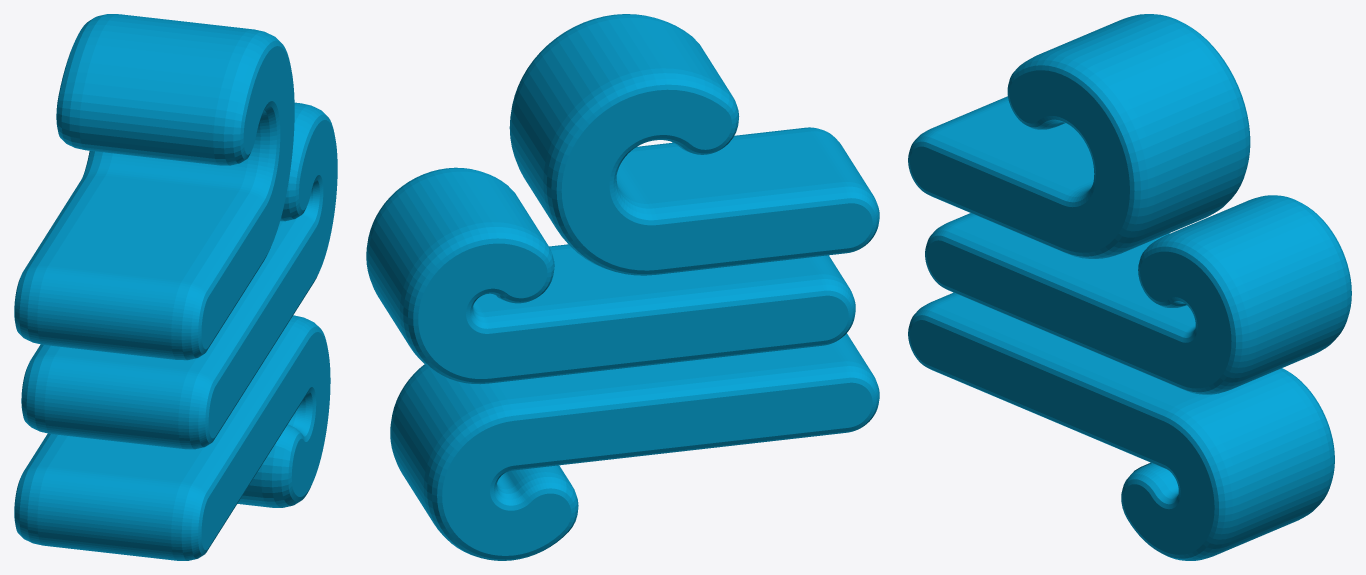
File: wind.glb
3 views of the same model, side by side, from view 1: azimuth 30°, elevation 25°; view 2: azimuth 150°, elevation 25°; view 3: azimuth 270°, elevation 25° (orthographic). The views are drawn at different scales.
Size of the model in its own units: 77.28 by 87.51 by 77.28.
